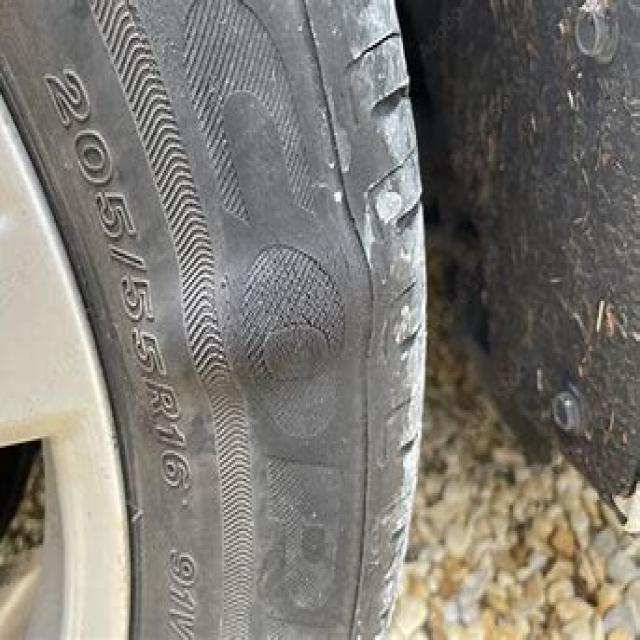Bulge: (129, 220, 397, 407)
